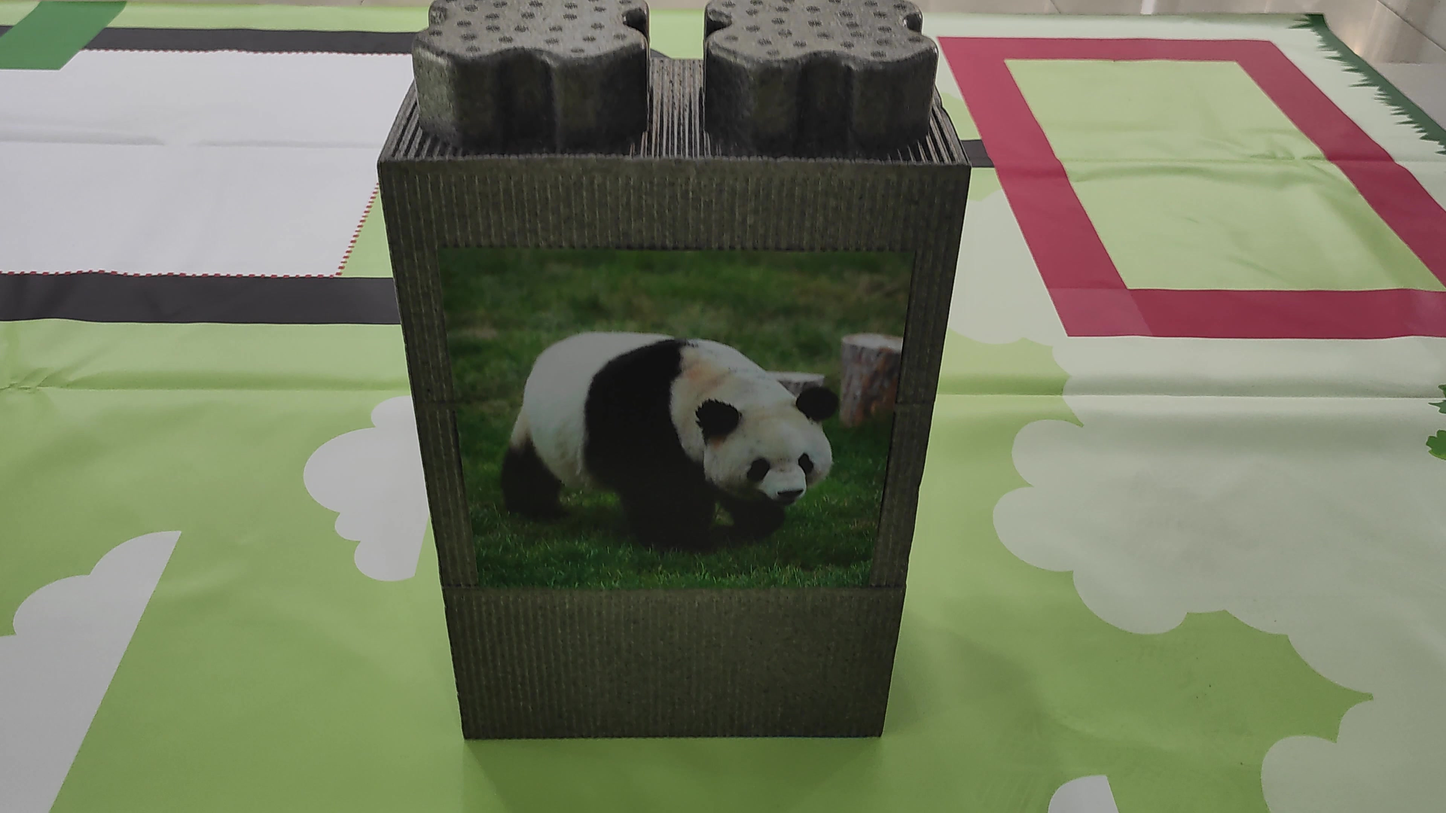panda: (476, 305, 847, 554)
